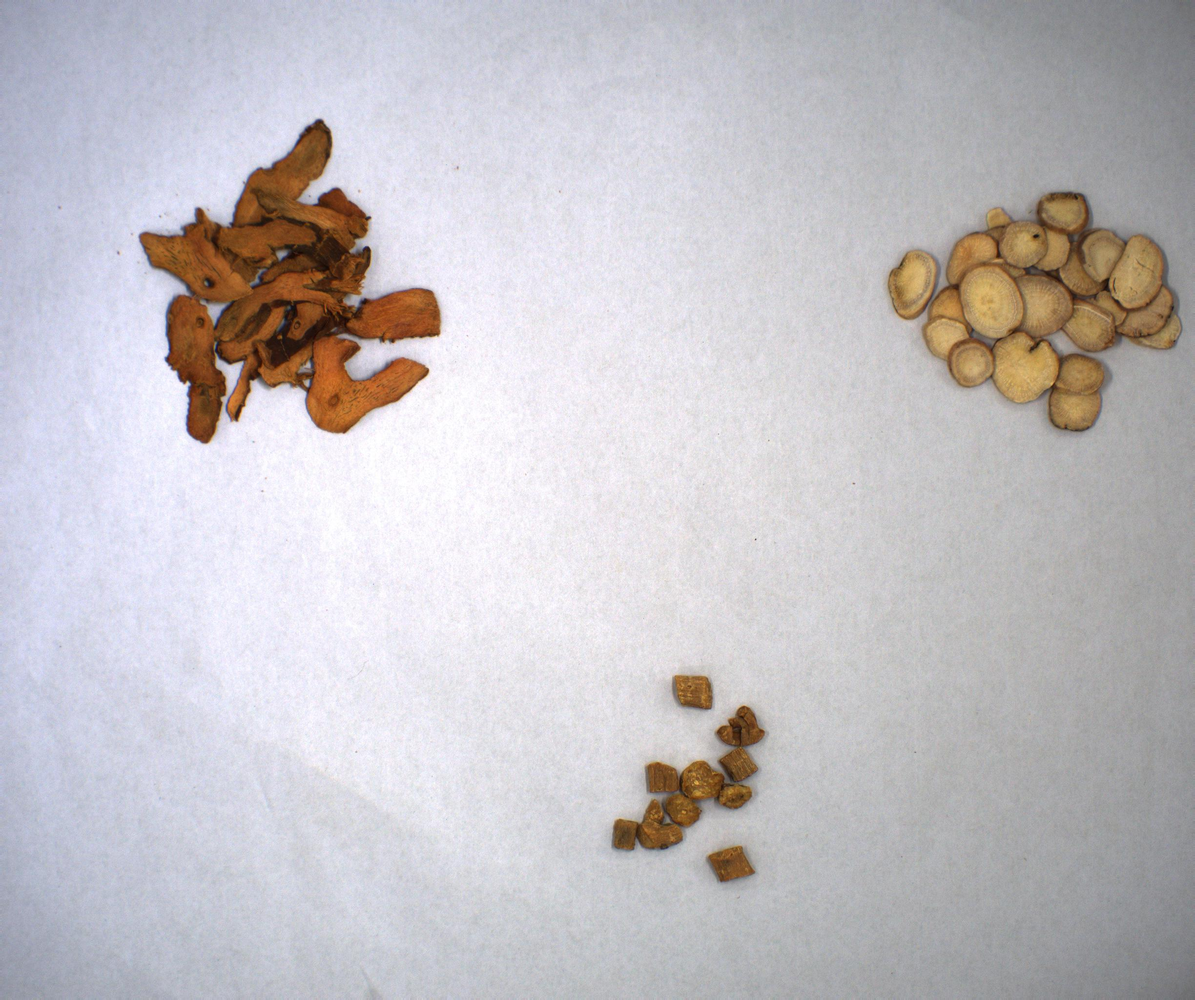baishao: (865, 131, 1195, 479)
gaoliangjiang: (130, 100, 484, 499)
niuxi: (585, 608, 802, 953)
